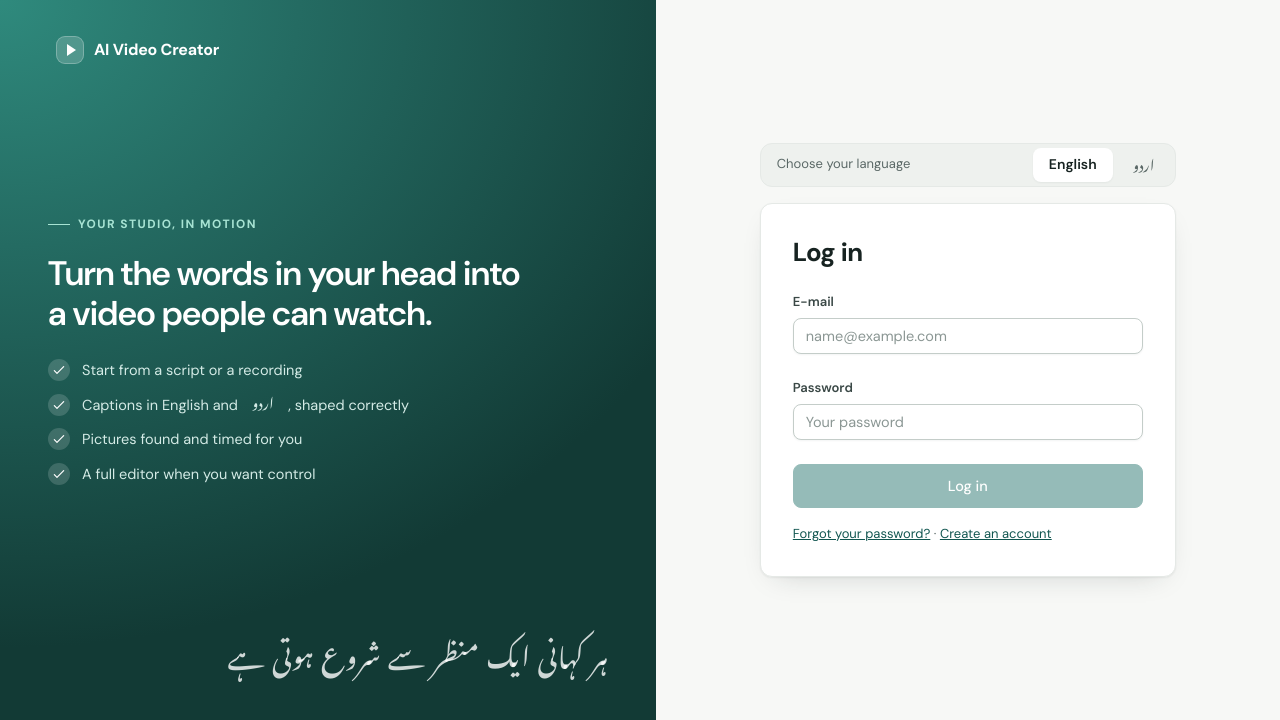
Test case: App and accounts › logs in and lands on the projects, then logs out
The image size is (1280, 720).
Type "ann@example.com" into the field labelled "E-mail" at coordinates (968, 336), box [793,318,1143,354]
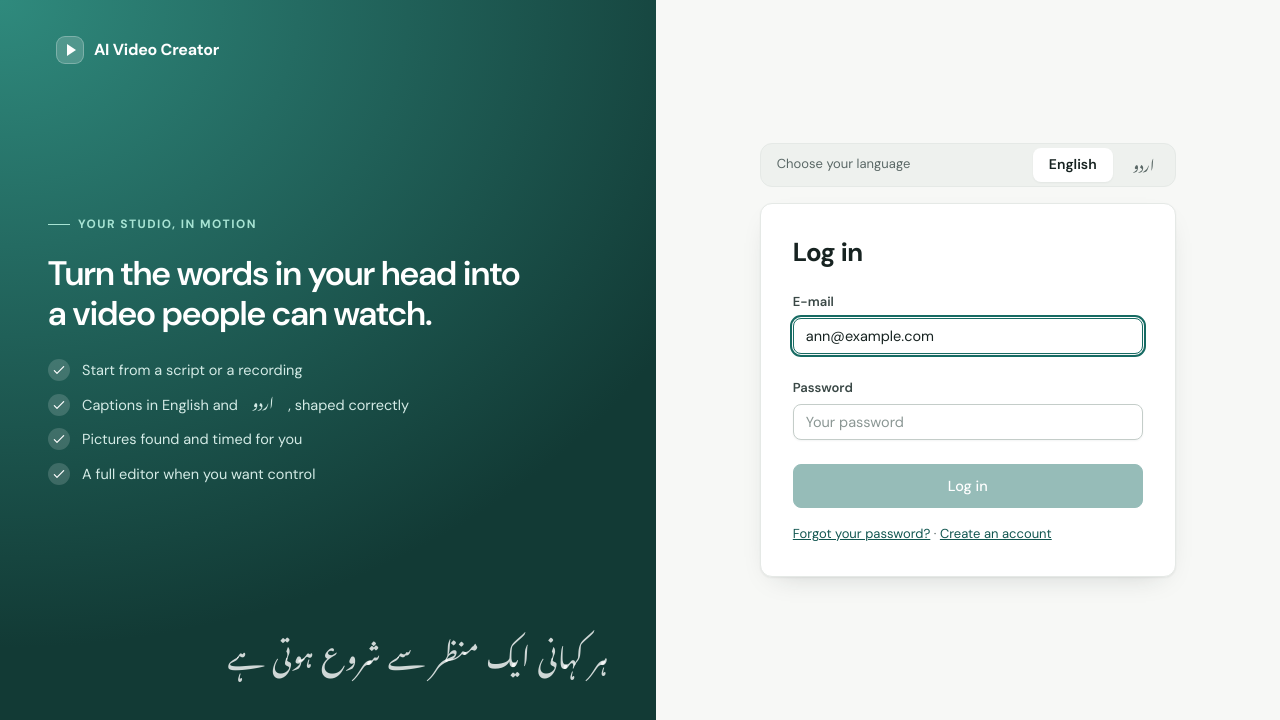
Type "correct horse battery" into the password field labelled "Password" at coordinates (968, 422), box [793,404,1143,440]
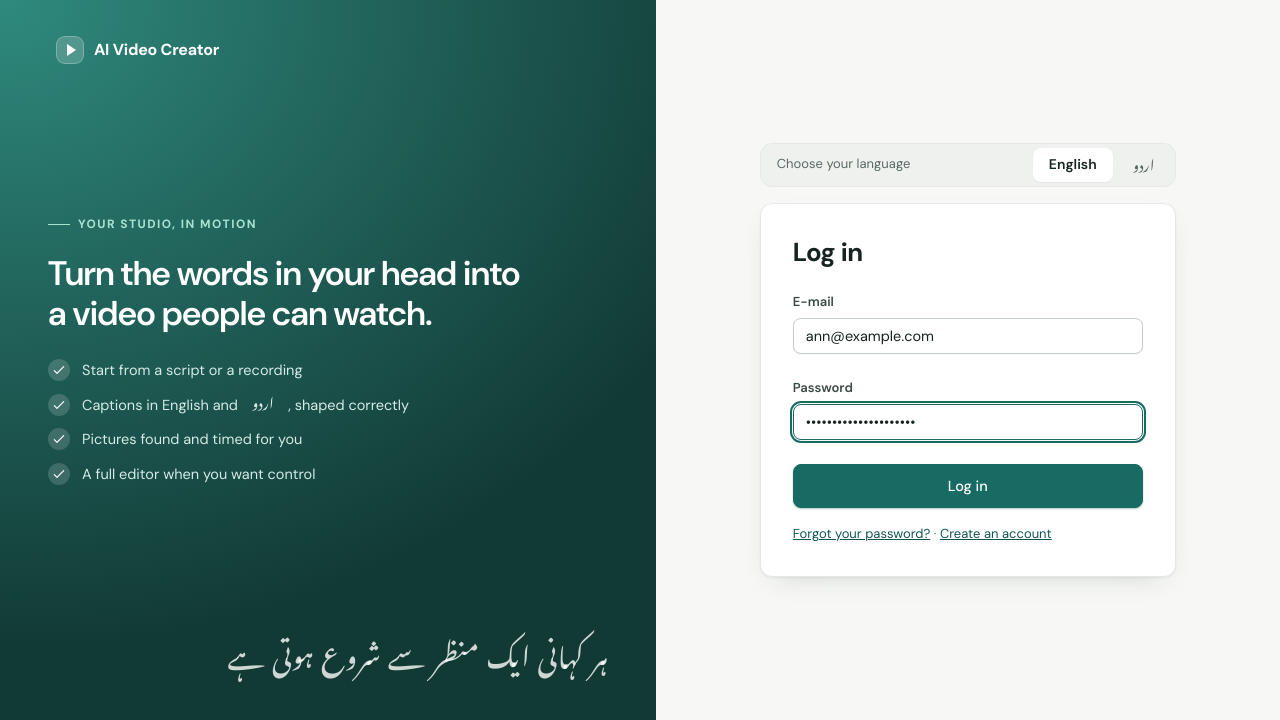
Click the button "Log in" at coordinates (968, 486), box [793,464,1143,508]
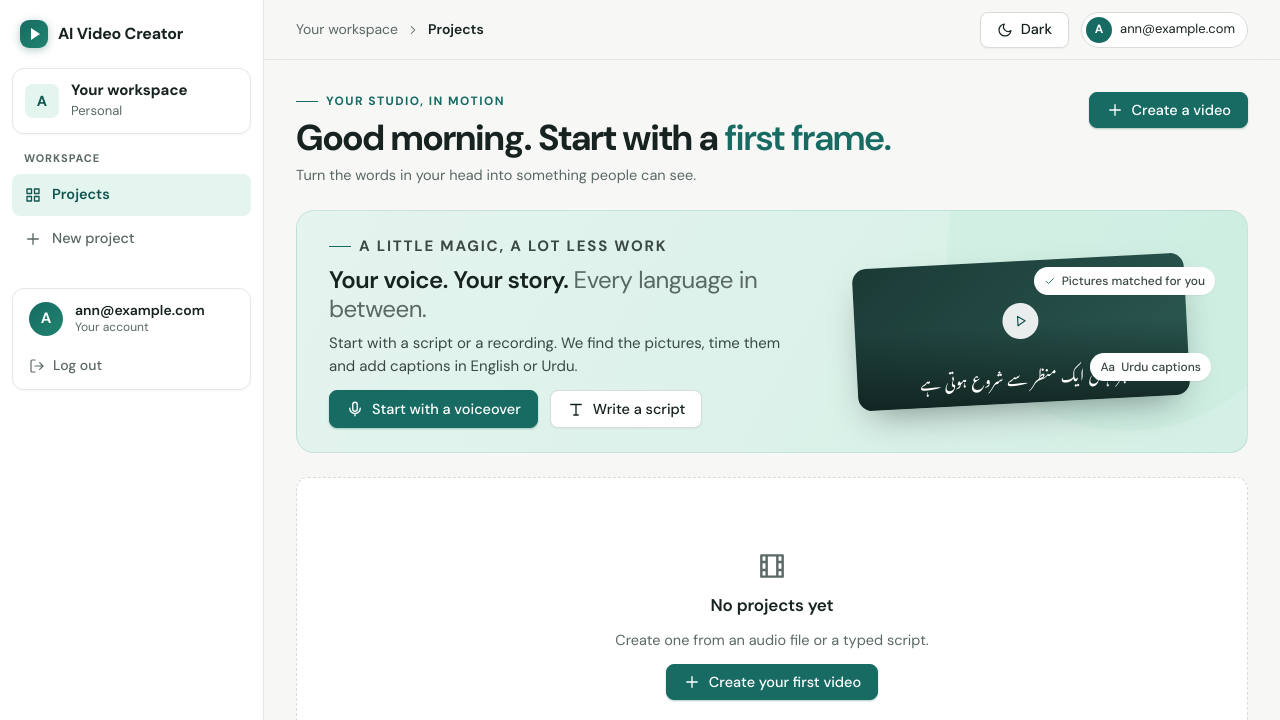
Check: the heading "Good morning. Start with a first frame." is shown, box [296,115,891,160]
Check: the link "A ann@example.com Your account" is shown, box [29,301,205,336]
Click the button "Log out" at coordinates (132, 366), box [17,346,246,384]
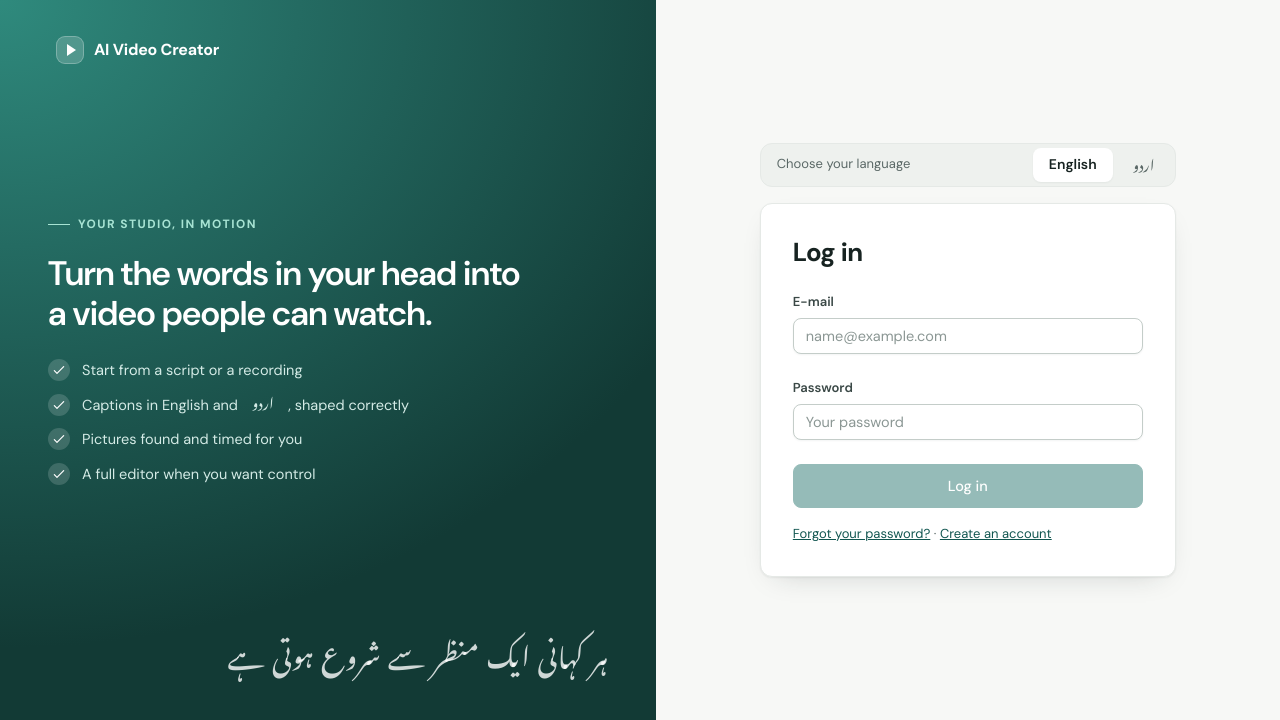
Check: the heading "Log in" is shown, box [793,234,862,268]
